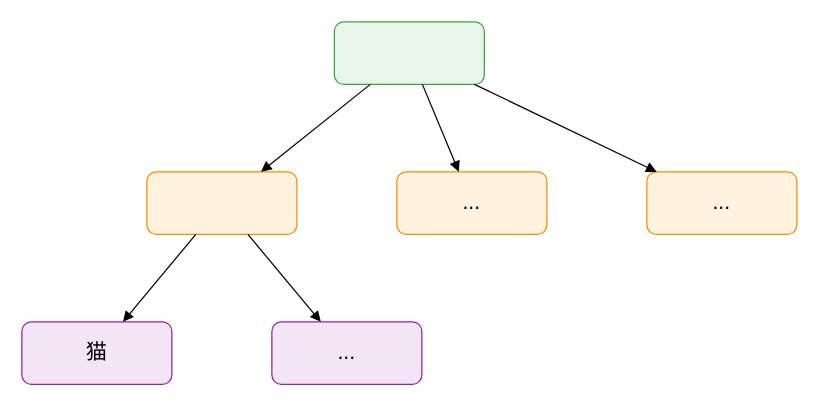
Image size: 819x406. Some labels were removed from this diagram. The centre of each missing label's shape, as x and y in pixels:
"动物" goes at (408,52).
"哺乳动物" goes at (221,202).
